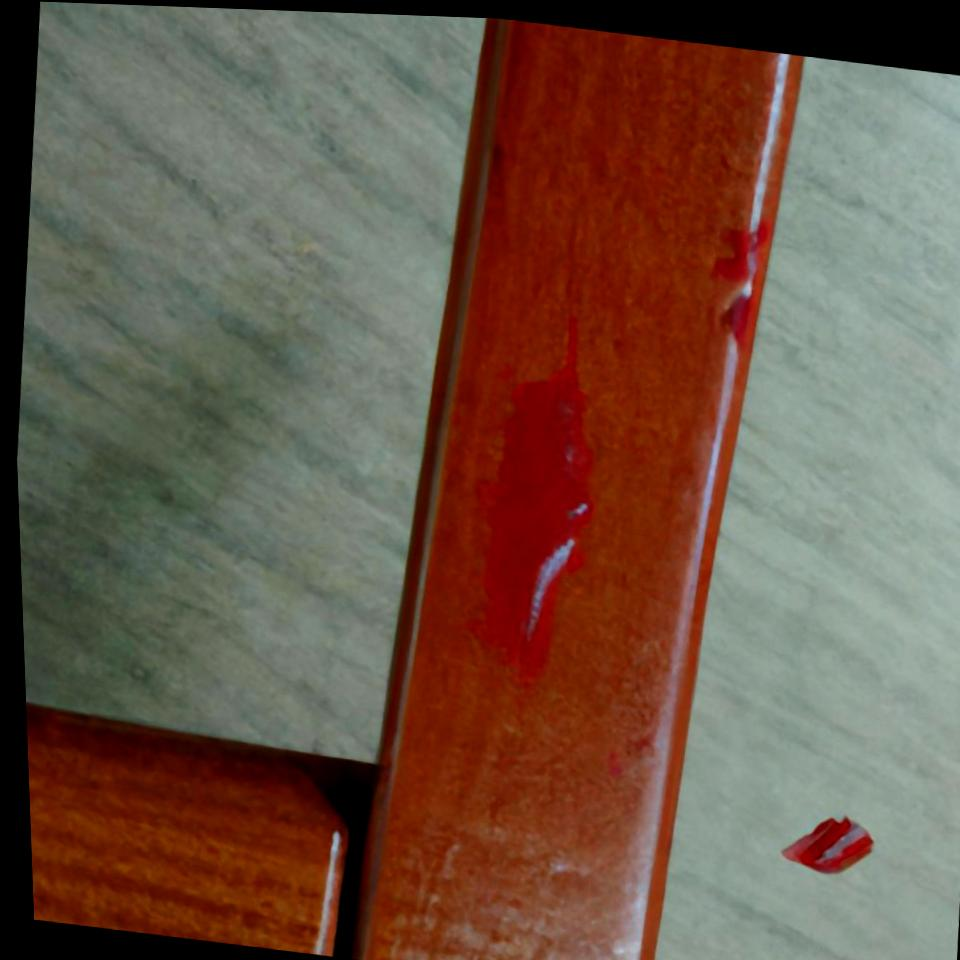Fire: (461, 312, 591, 685), (709, 216, 768, 278), (720, 290, 751, 342)
